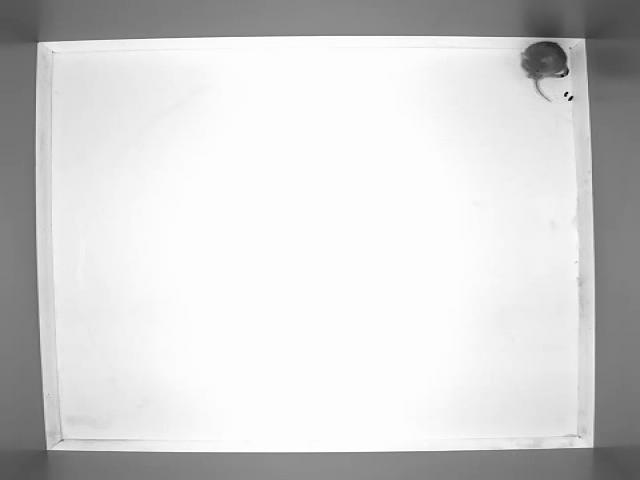Tikus: (518, 38, 574, 104)
